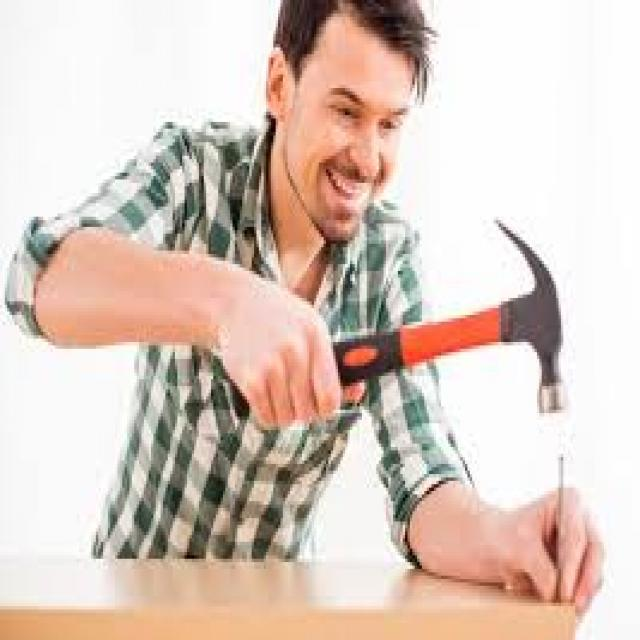hammer: (230, 198, 571, 432)
